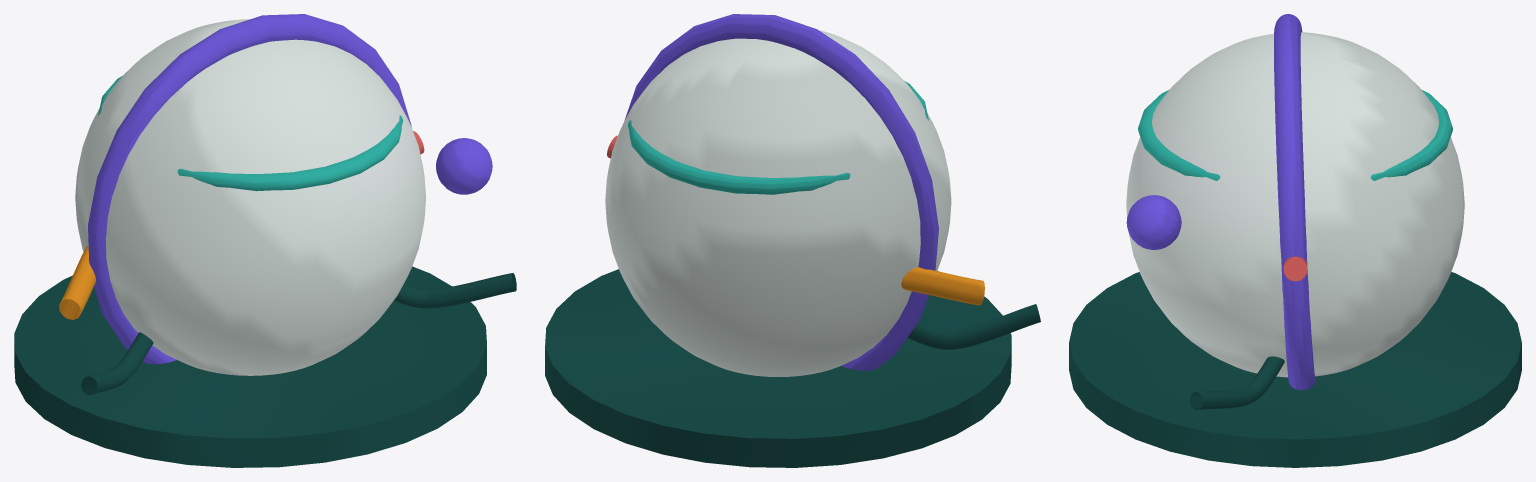
Rendered from 0431_微生物图鉴_水生嗜热菌.glb.
3 renders of one model, left to right at view 1: azimuth 30°, elevation 25°; view 2: azimuth 150°, elevation 25°; view 3: azimuth 270°, elevation 25°, orthographic. The views are drawn at different scales.
Parts seen in each view (by area): view 1: card_0431; view 2: card_0431; view 3: card_0431.
Part boxes in pixels (x1,y1,x2,y2): card_0431: [14, 14, 516, 467]; card_0431: [545, 14, 1040, 467]; card_0431: [1069, 14, 1521, 467].
Bounding box in the file's own units: 1.24 × 1 × 1.16.
